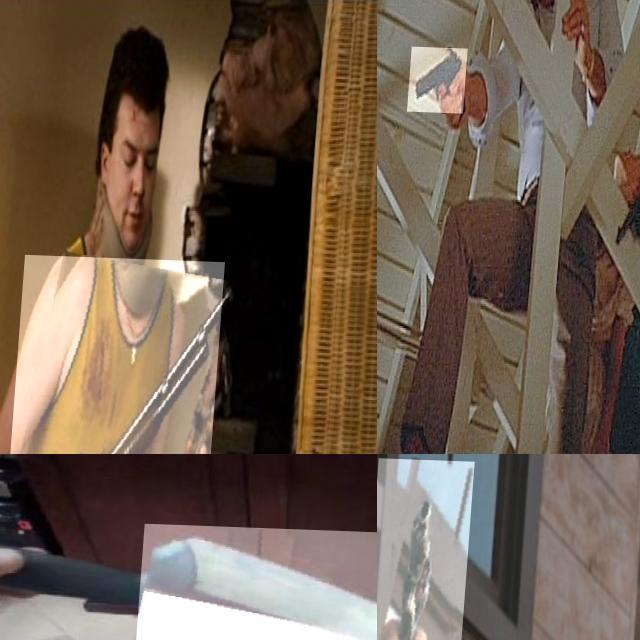-: (138, 522, 377, 640)
gun-knife-thesis - v11 Yolov5 augmented: (7, 253, 229, 454), (377, 456, 474, 640), (412, 45, 472, 112), (612, 146, 640, 264)
